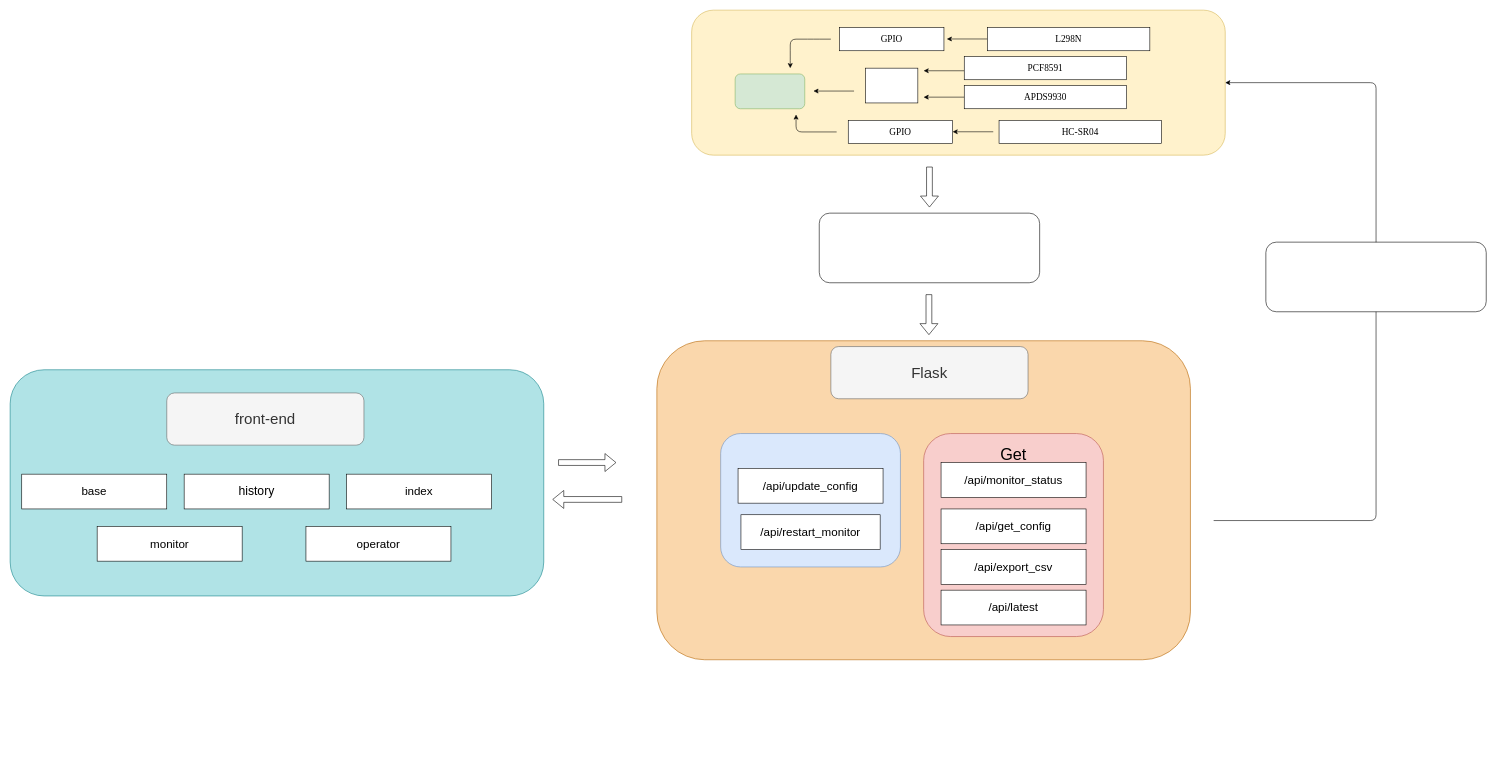
Some shapes in this 1496 by 772 pixel diagram are drawn without their labels. The box of each missing label's shape, as (x1, y1, x2, y2) in pixels:
Control: (1265, 242, 1486, 312)
DataBase(SQLite) { time,temp,light,distance}: (819, 213, 1040, 283)
I2C BUS: (865, 68, 918, 103)
Post: (720, 433, 900, 567)
樹梅派外設: (735, 73, 805, 109)
